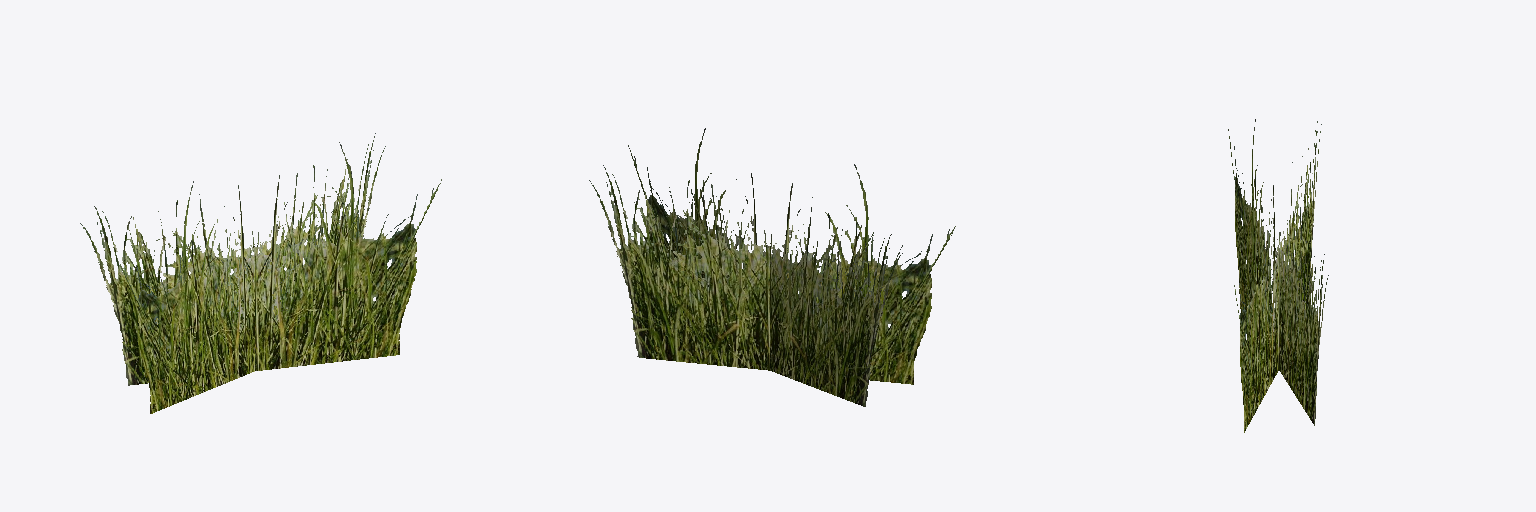
3 views of the same model, side by side, from view 1: azimuth 30°, elevation 25°; view 2: azimuth 150°, elevation 25°; view 3: azimuth 270°, elevation 25° (orthographic).
Visible parts, largest first — view 1: ungrouped; view 2: ungrouped; view 3: ungrouped.
Part boxes in pixels (x1,y1,x2,y2): ungrouped: (80,133,441,413); ungrouped: (589,128,955,406); ungrouped: (1228,119,1328,432).
Bounding box in the file's own units: 61.97 × 42.11 × 16.9.
Materials: 1 (1 with a texture image).